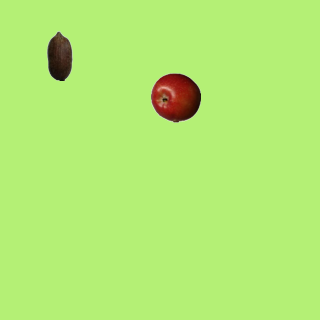Apple Braeburn: (150, 72, 200, 122)
Nut Pecan: (34, 30, 84, 80)
